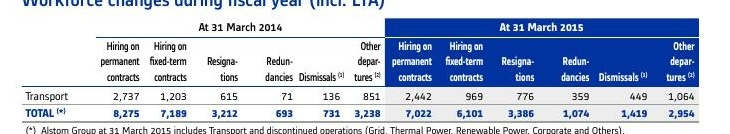table: (0, 0, 730, 134)
